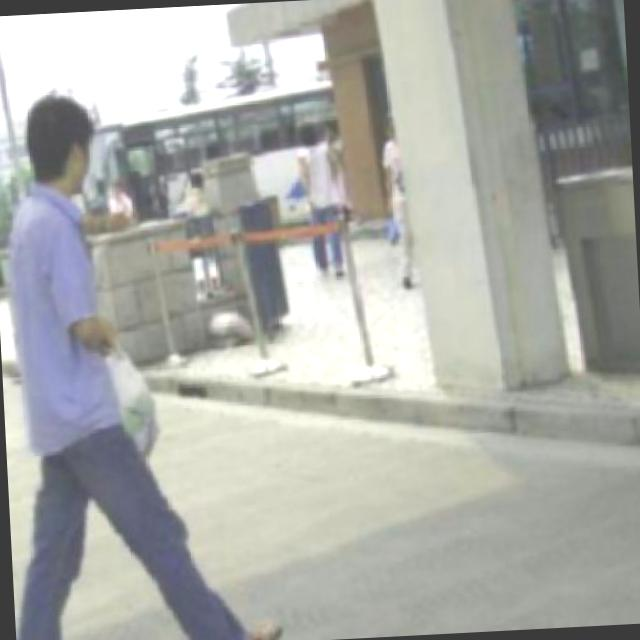Person: (0, 71, 267, 640), (289, 116, 356, 274)
